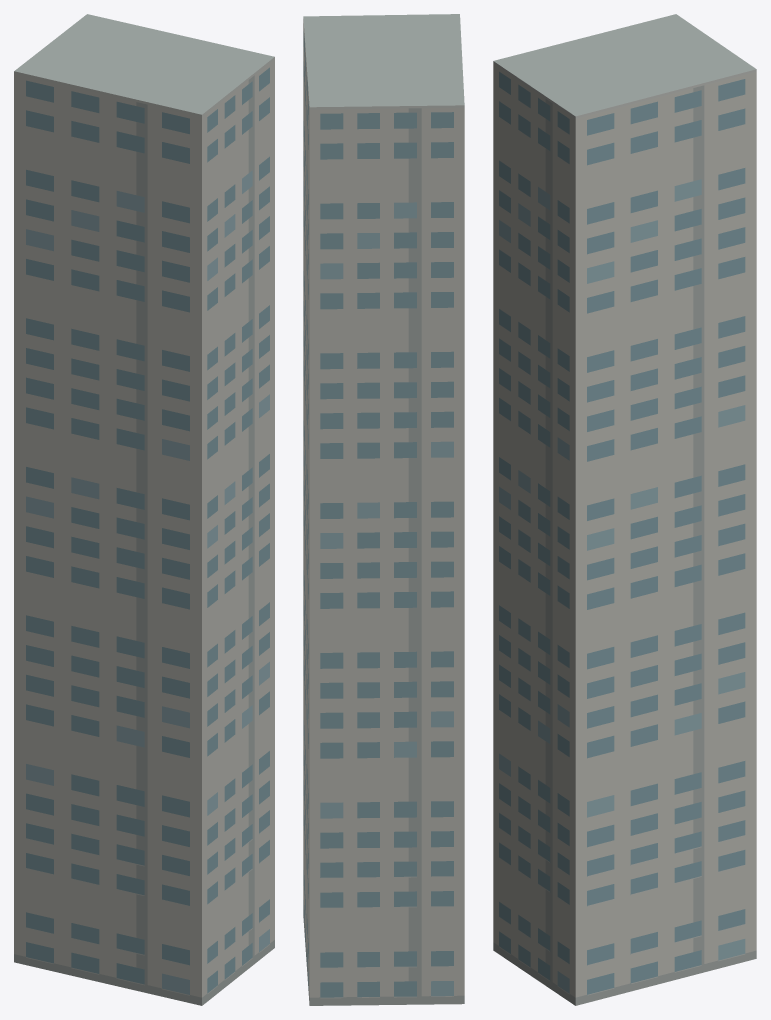
File: survey-upis-32793345.glb
The picture shows the model from 3 angles, left to right: view 1: azimuth 30°, elevation 25°; view 2: azimuth 150°, elevation 25°; view 3: azimuth 270°, elevation 25°; orthographic projection.
Visible parts, largest first — view 1: survey-upis-32793345.tmp; view 2: survey-upis-32793345.tmp; view 3: survey-upis-32793345.tmp.
Part boxes in pixels (x1,y1,x2,y2): survey-upis-32793345.tmp: (14,14,274,1005); survey-upis-32793345.tmp: (303,14,464,1005); survey-upis-32793345.tmp: (493,14,756,1005).
Bounding box in the file's own units: 22.61 × 91.5 × 24.58.
